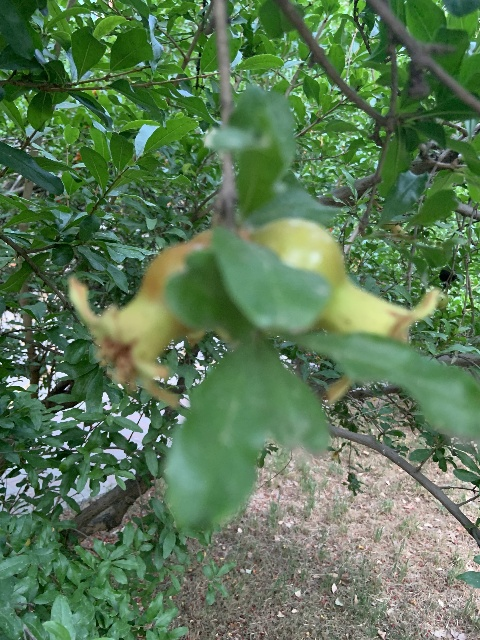early-fruit: (245, 219, 446, 393), (67, 233, 210, 406)
